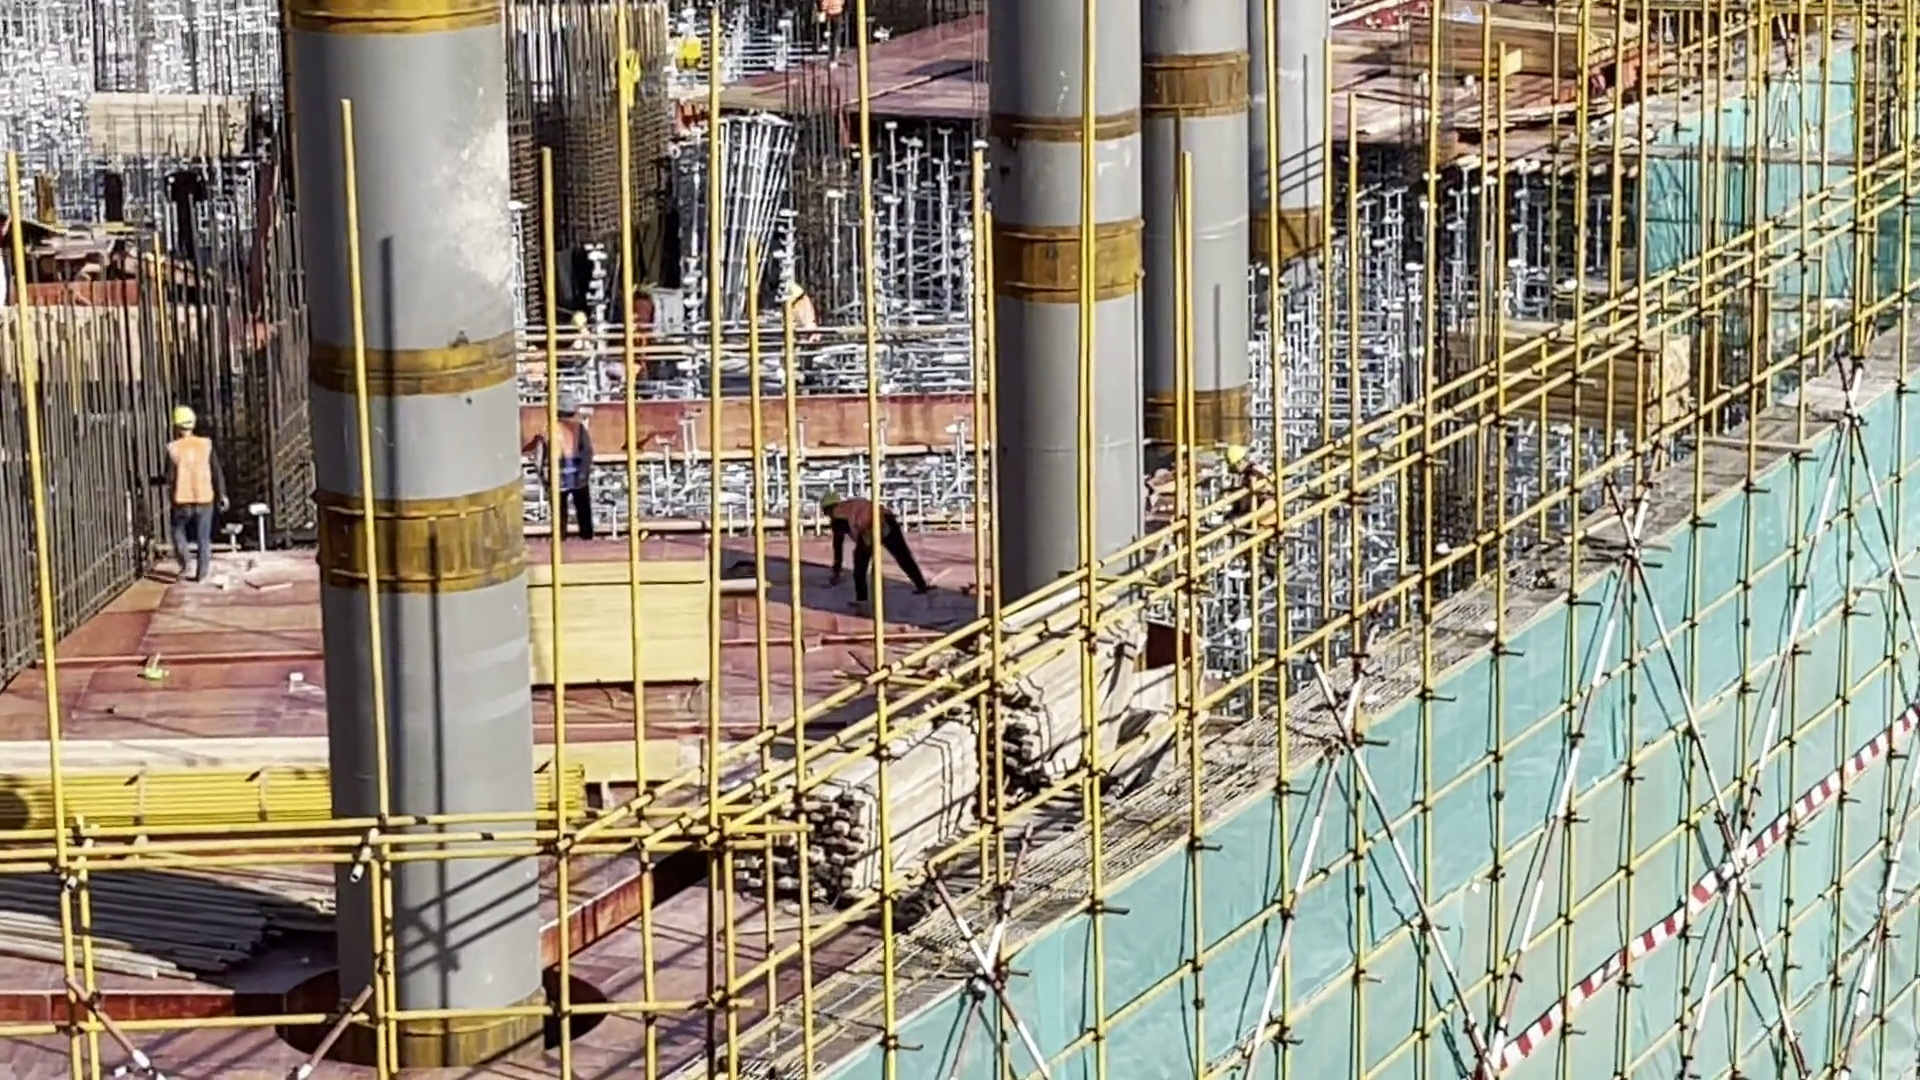helmet: (768, 277, 804, 311), (169, 404, 199, 440), (551, 389, 578, 419), (816, 489, 837, 512), (1225, 444, 1245, 465)
person: (810, 485, 935, 602), (533, 388, 611, 549), (159, 398, 224, 583), (770, 274, 844, 393), (561, 306, 610, 383), (1222, 449, 1277, 507)
vest: (533, 422, 585, 490), (166, 434, 218, 504), (837, 498, 885, 540)
